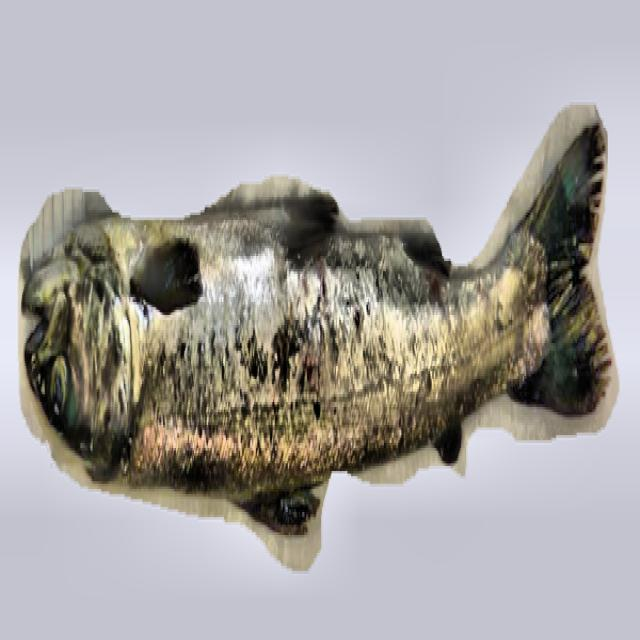mild_red: (131, 220, 549, 494)
